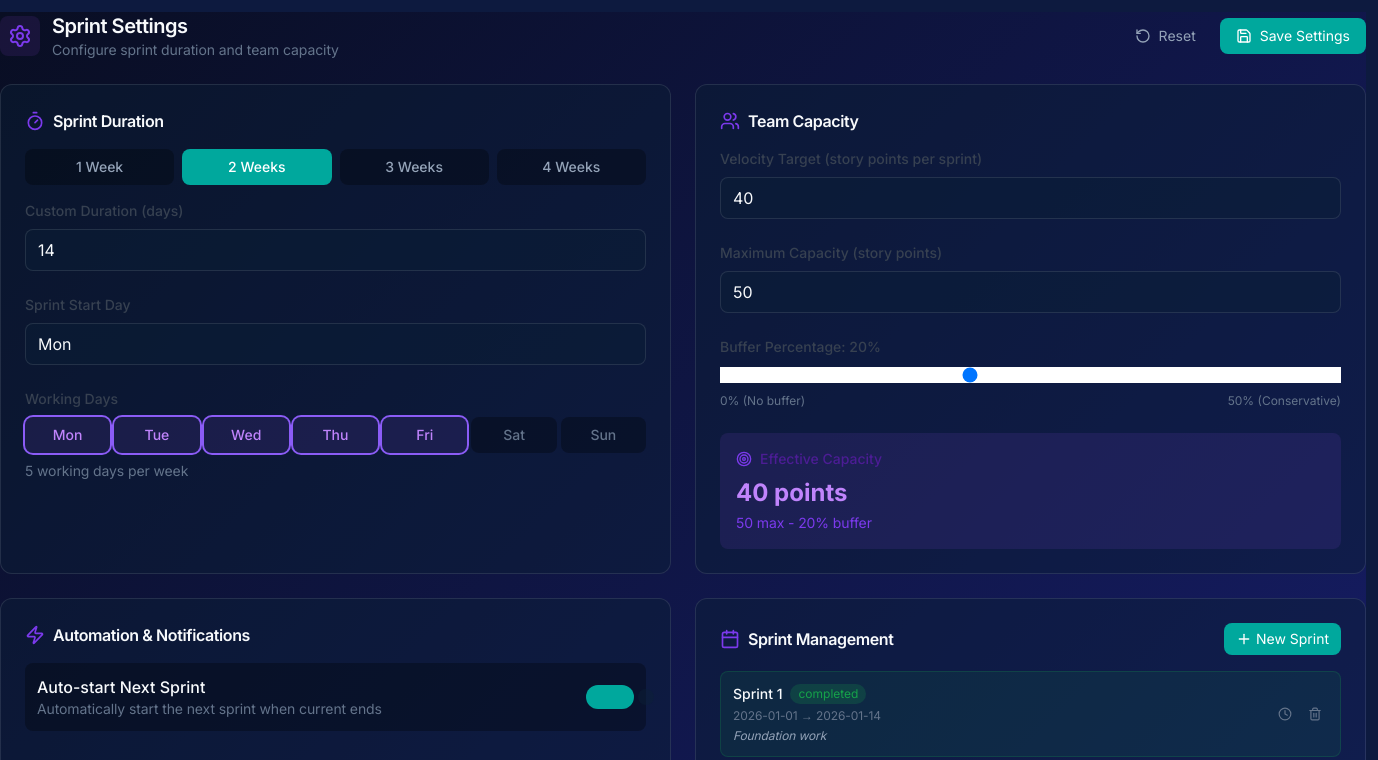
Test: SprintSettings — edit sprint inline › clicking edit button shows inline edit inputs
Expected: the icon with class "lucide-clock" is shown, [1278,707,1292,721]
What coordinates should you click on to do the following:
click the button with class "lucide-clock"
I would click on:
 (1285, 714)
Its box is [1272,701,1298,727].
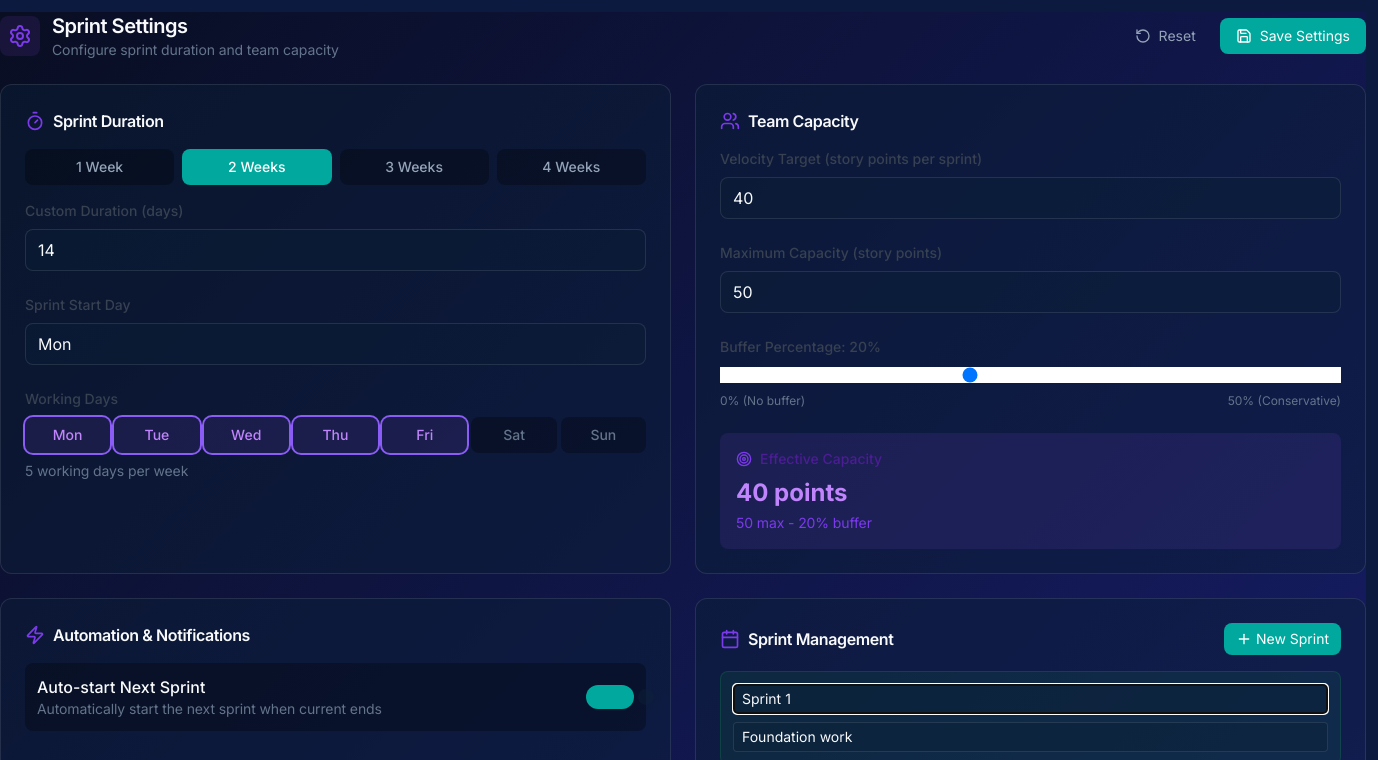
Now the 1st field is shown, box [733,684,1328,714]
